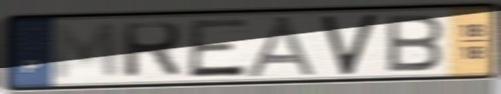A: (242, 14, 323, 79)
B: (383, 12, 447, 74)
E: (185, 16, 251, 80)
M: (51, 20, 122, 83)
R: (119, 19, 185, 79)
V: (318, 11, 380, 77)
